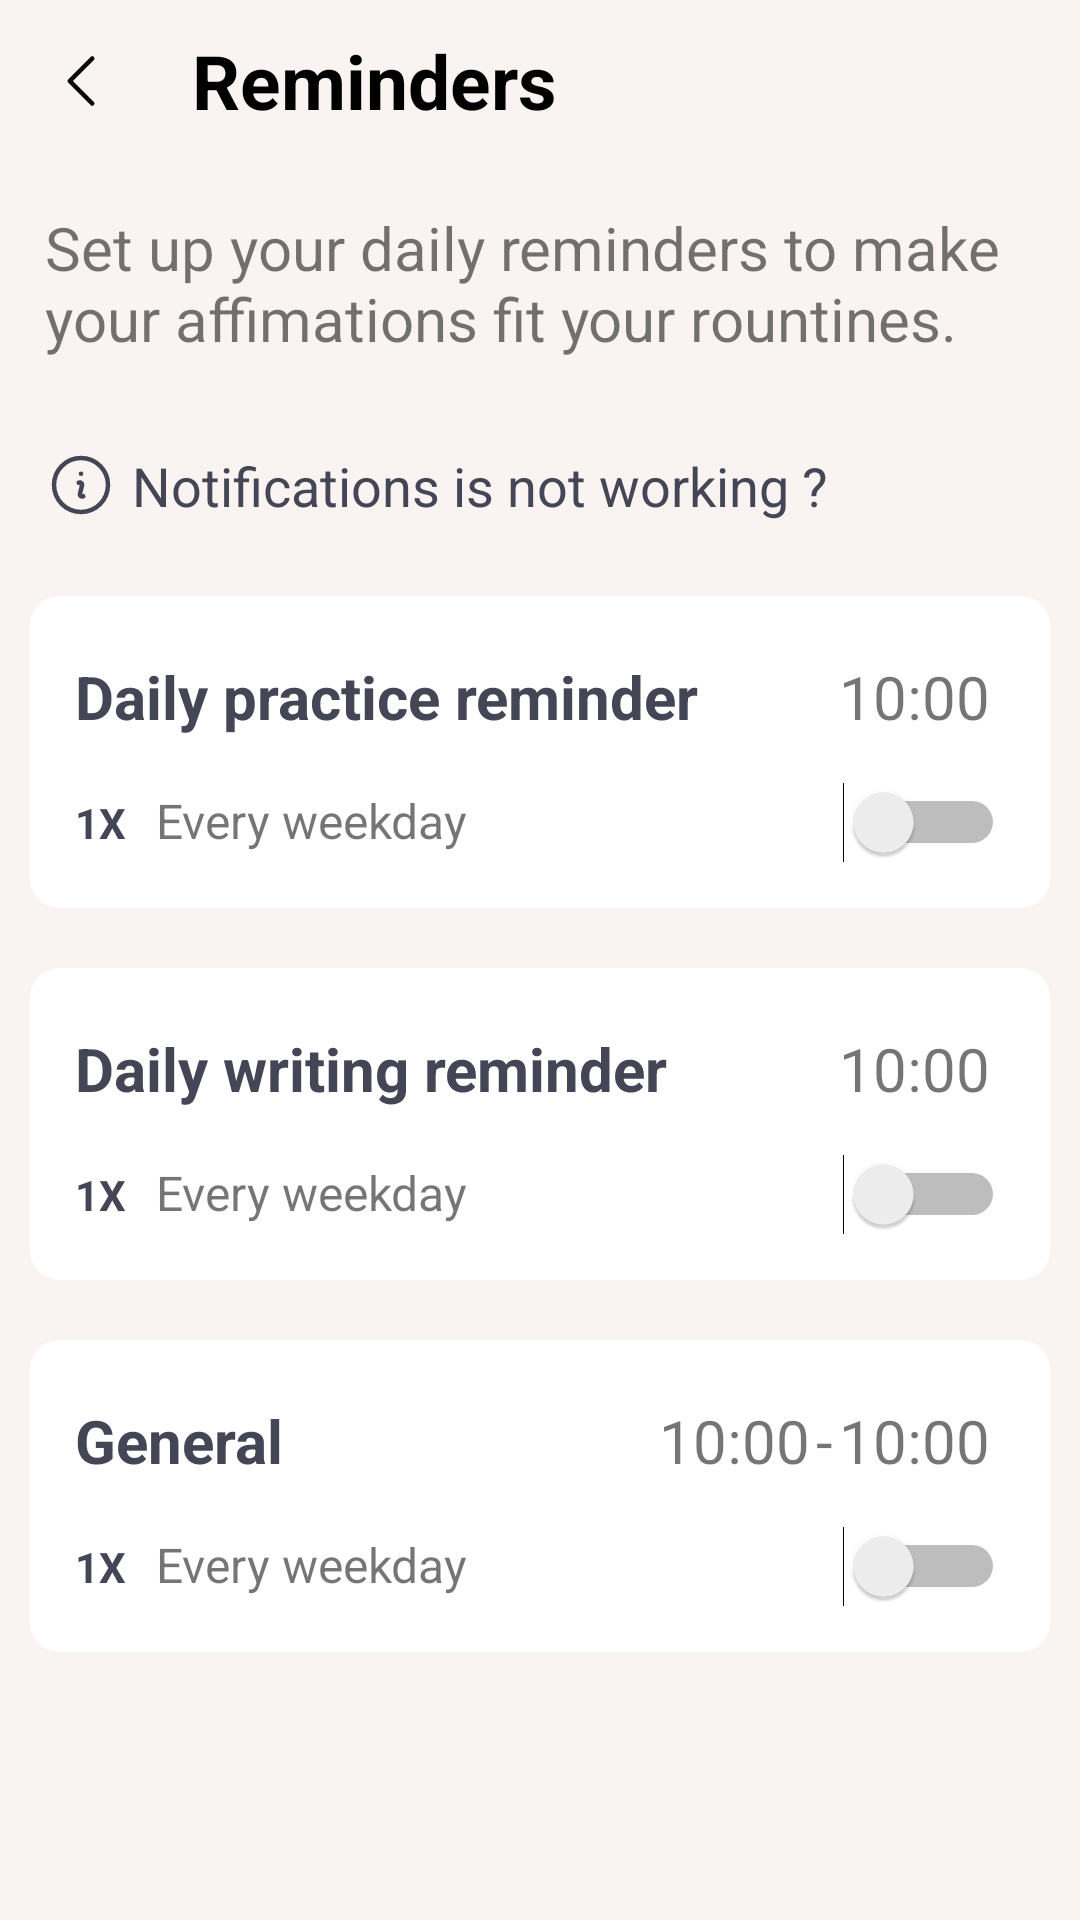

Locate icon controls on the screen. Image size 1080w x 1920h, boxes as (x1, y1, x2, y2).
back: (67, 56, 95, 106)
